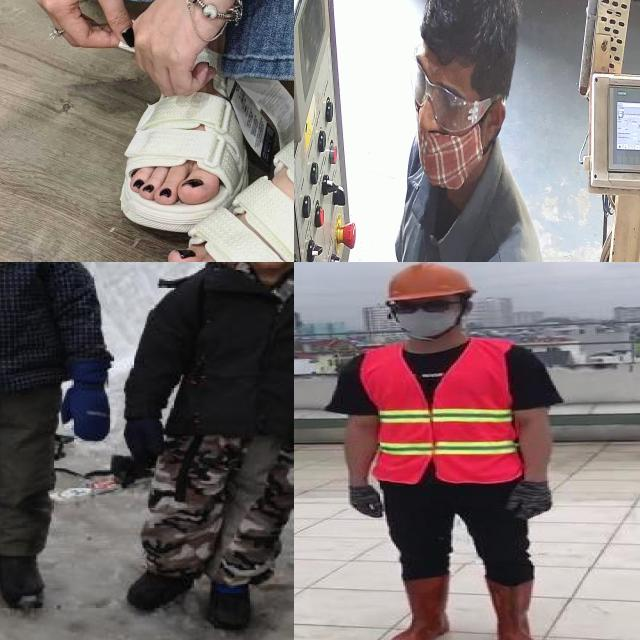No_Ear-Protection: (480, 98, 505, 166)
Sandals: (30, 0, 294, 262)
boots: (385, 581, 451, 640), (486, 579, 543, 640)
face_mask: (418, 124, 483, 190), (387, 296, 458, 336)
glasses: (412, 56, 502, 133), (380, 296, 460, 318)
hand_glove: (58, 379, 115, 444), (502, 481, 558, 518), (346, 486, 391, 518)
head_helmet: (385, 262, 475, 305)
head_nohelmet: (420, 0, 519, 98)
person: (335, 262, 568, 640), (117, 262, 294, 628), (0, 262, 111, 624)
shoes: (114, 550, 198, 612), (192, 570, 269, 629), (0, 533, 54, 615)
vest: (359, 338, 522, 484)
